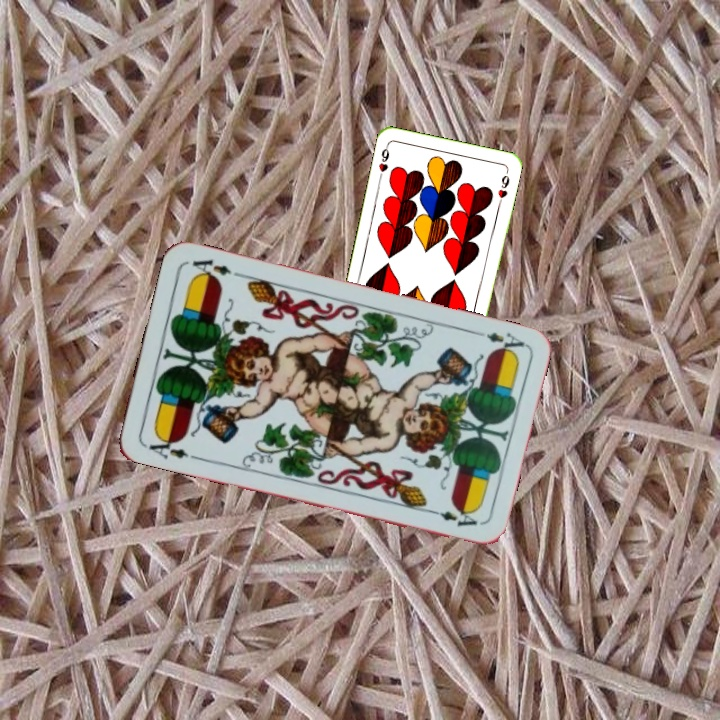EA: (469, 326, 527, 358), (144, 431, 199, 462)
H9: (375, 141, 392, 181)
